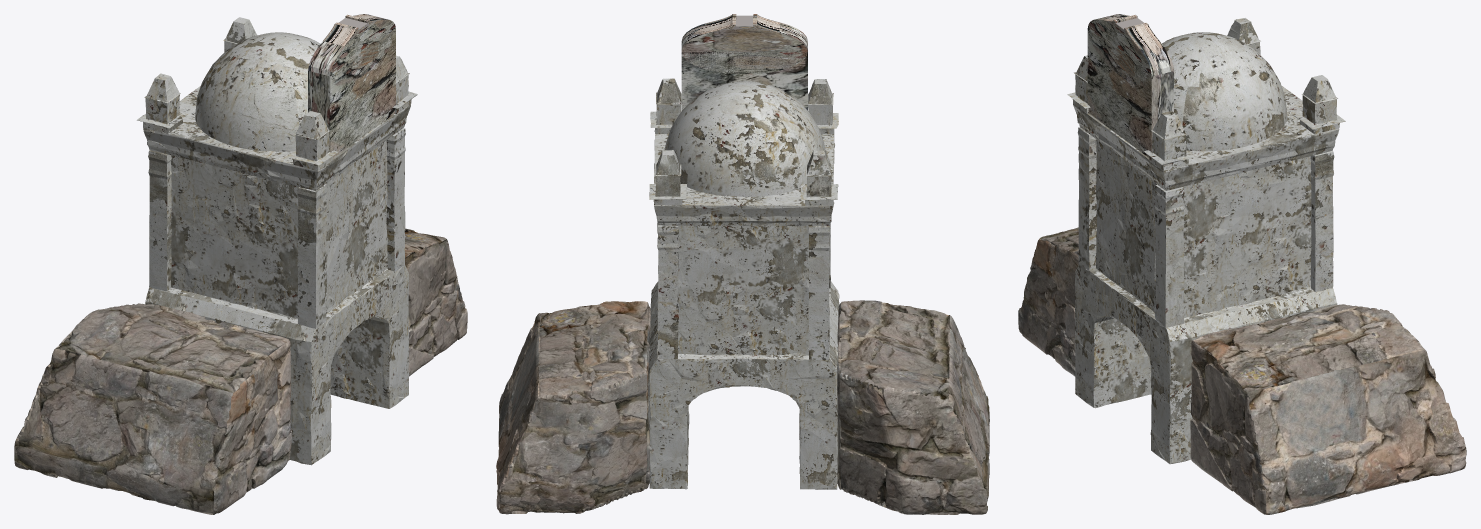
3 renders of one model, left to right at view 1: azimuth 30°, elevation 25°; view 2: azimuth 150°, elevation 25°; view 3: azimuth 270°, elevation 25°, orthographic. The views are drawn at different scales.
Visible parts, largest first — view 1: Rompeolas; view 2: Rompeolas; view 3: Rompeolas.
Boxes of the visible parts, x1,y1,x2,y2 form: Rompeolas: [14, 14, 467, 514]; Rompeolas: [496, 14, 989, 514]; Rompeolas: [1018, 14, 1466, 514].
Bounding box in the file's own units: 1.41 × 1.15 × 1.15.
3 materials, 3 textured.
